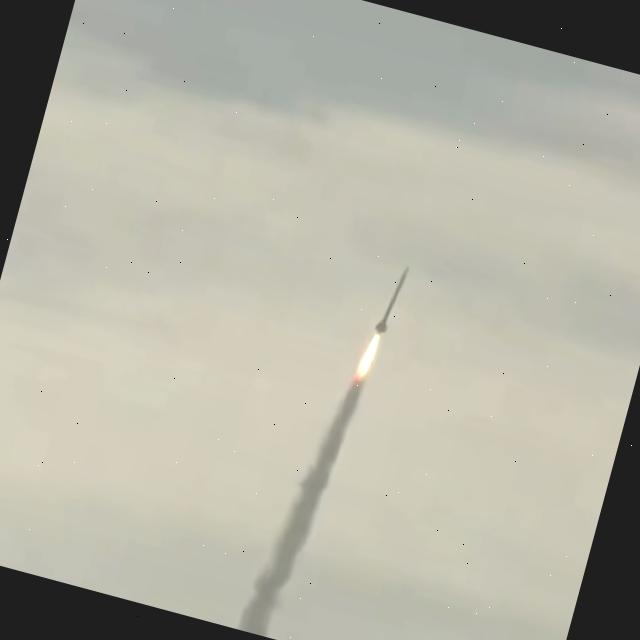rocket: (375, 271, 406, 331)
smoke_trail_with_rocket: (236, 268, 407, 637)
